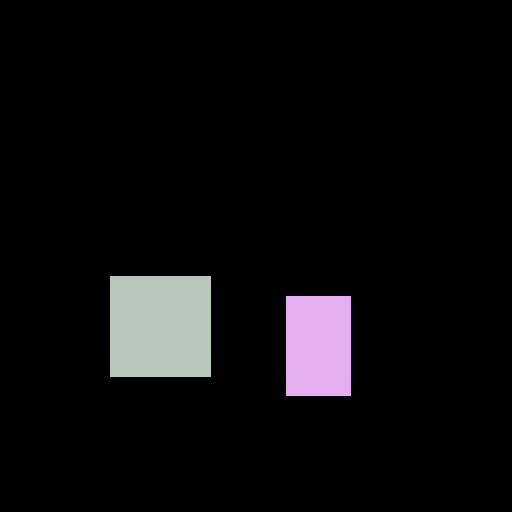rectangle: (286, 296, 350, 395)
square: (110, 276, 210, 376)
